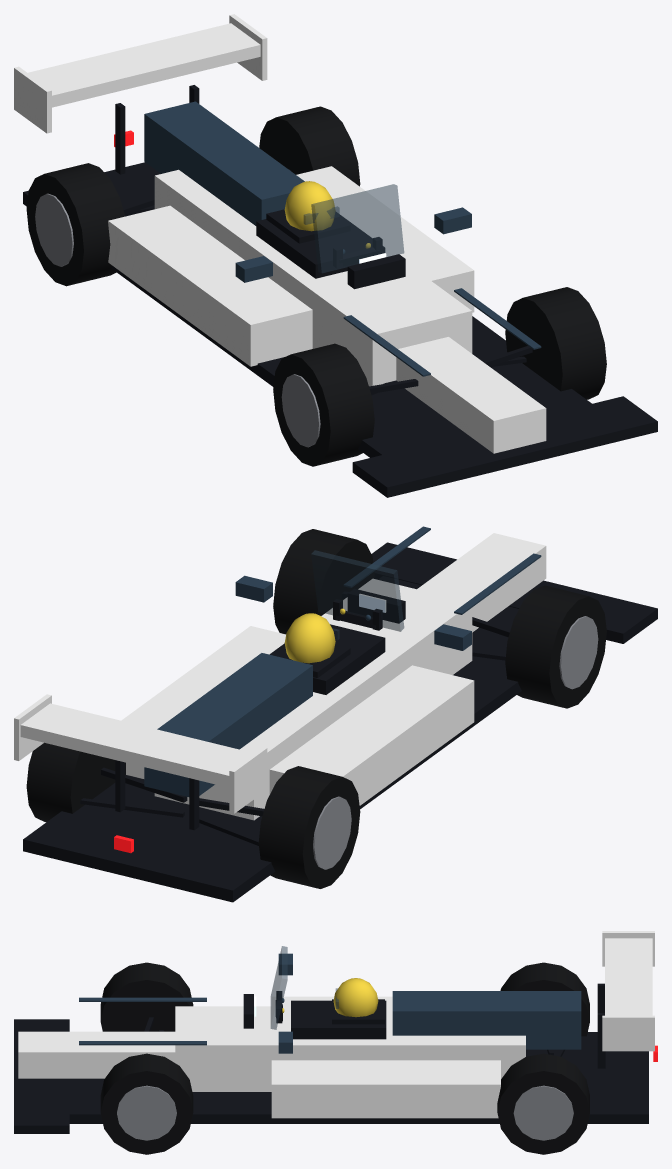
The model's file is indycar.glb.
3 views of the same model, one above another, from view 1: azimuth 30°, elevation 25°; view 2: azimuth 150°, elevation 25°; view 3: azimuth 270°, elevation 25° (orthographic). The views are drawn at different scales.
Visible parts, largest first — view 1: survival-cell, sidepod-left, front-wing, engine-cover, floor, nose, rear-wing, tyre--1-1, tyre-1-1, tyre--1--1, sidepod-right, aeroscreen (+14 smaller); view 2: floor, sidepod-left, survival-cell, engine-cover, rear-wing, tyre--1-1, tyre--1--1, tyre-1-1, nose, sidepod-right, aeroscreen, tyre-1--1 (+17 smaller); view 3: survival-cell, sidepod-right, floor, engine-cover, nose, tyre-1-1, tyre-1--1, tyre--1-1, front-wing, rear-wing, rim-1--1, rim-1-1 (+14 smaller).
Part boxes in pixels (x1,y1,x2,y2): survival-cell: [154, 169, 472, 386]; sidepod-left: [108, 205, 312, 366]; front-wing: [352, 396, 657, 497]; engine-cover: [144, 101, 304, 225]; floor: [23, 162, 591, 457]; nose: [396, 337, 546, 453]; rear-wing: [28, 23, 260, 107]; tyre--1-1: [273, 343, 374, 466]; tyre-1-1: [505, 287, 606, 399]; tyre--1--1: [26, 163, 125, 286]; sidepod-right: [296, 166, 474, 312]; aeroscreen: [311, 184, 404, 273]; floor: [23, 576, 521, 902]; sidepod-left: [269, 665, 474, 805]; survival-cell: [154, 578, 472, 820]; engine-cover: [144, 653, 312, 796]; rear-wing: [20, 703, 253, 787]; tyre--1-1: [505, 585, 606, 708]; tyre--1--1: [258, 766, 360, 888]; tyre-1-1: [273, 529, 374, 634]; nose: [417, 533, 546, 632]; sidepod-right: [121, 626, 285, 778]; aeroscreen: [311, 550, 404, 631]; tyre-1--1: [26, 742, 125, 822]; survival-cell: [175, 1006, 525, 1091]; sidepod-right: [271, 1060, 500, 1118]; floor: [69, 1032, 648, 1123]; engine-cover: [392, 991, 581, 1049]; nose: [18, 1031, 175, 1078]; tyre-1-1: [100, 1053, 193, 1154]; tyre-1--1: [497, 1053, 589, 1154]; tyre--1-1: [100, 962, 193, 1031]; front-wing: [14, 1019, 69, 1133]; rear-wing: [605, 938, 652, 1015]; rim-1--1: [513, 1085, 573, 1140]; rim-1-1: [117, 1085, 176, 1140].
Bounding box in the file's own units: 1.96 × 1.16 × 4.87.
